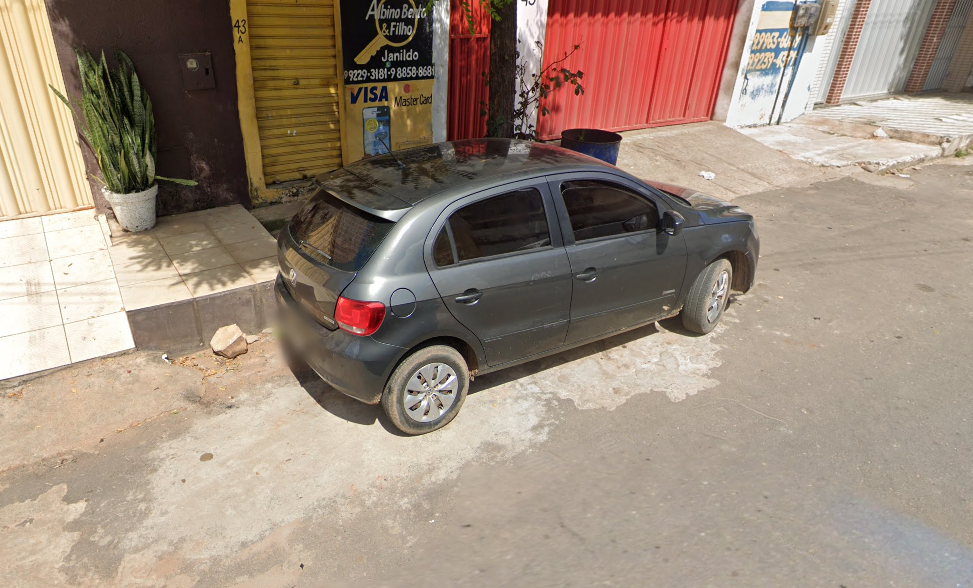car: (272, 132, 763, 441)
